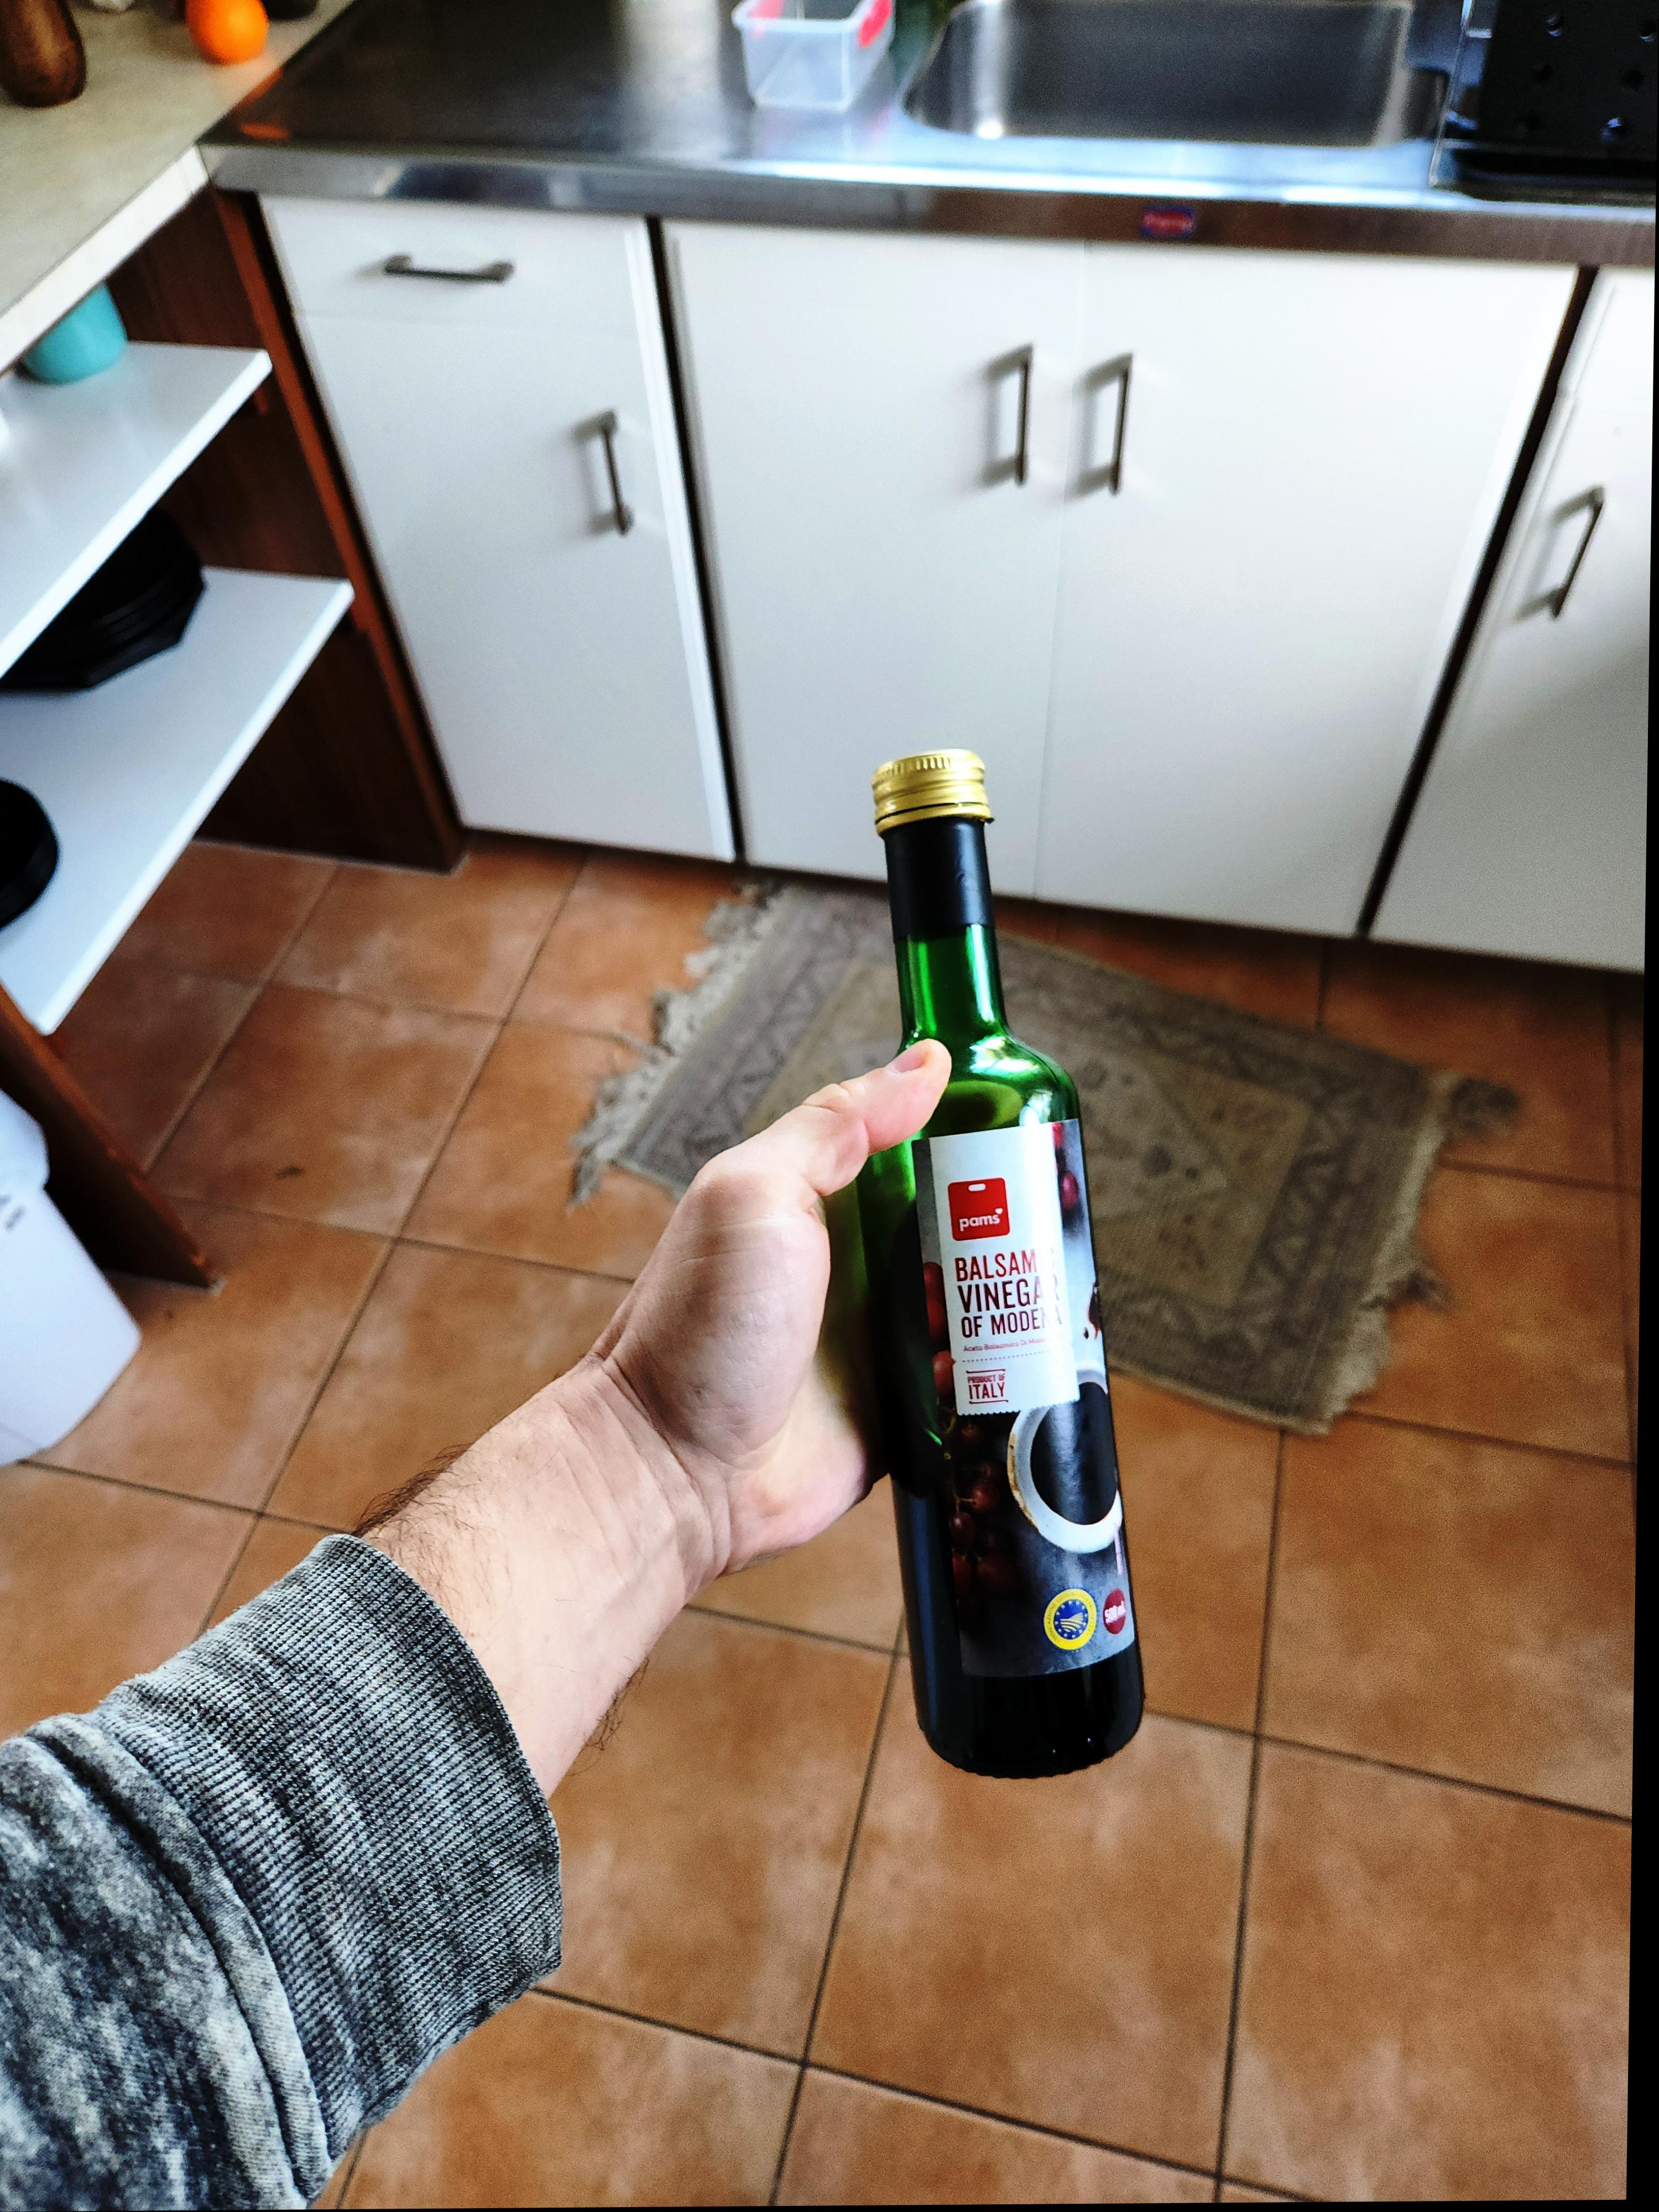balsamic vinegar: (647, 993, 875, 2205)
